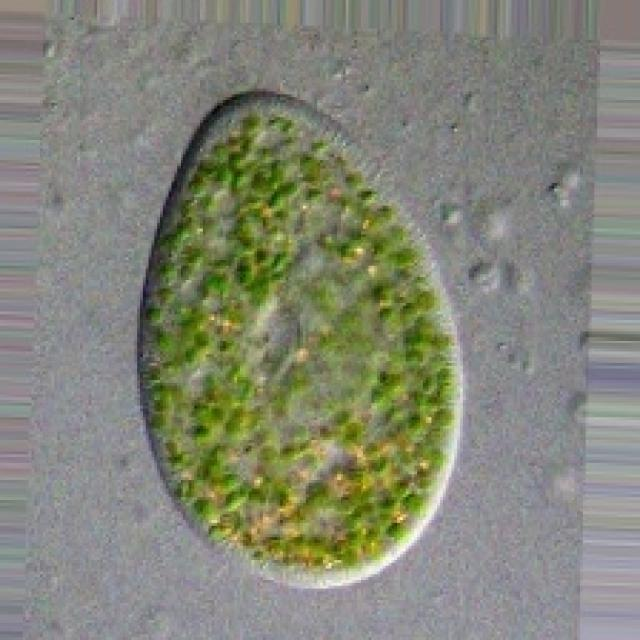Amoeba: (134, 94, 460, 580)
